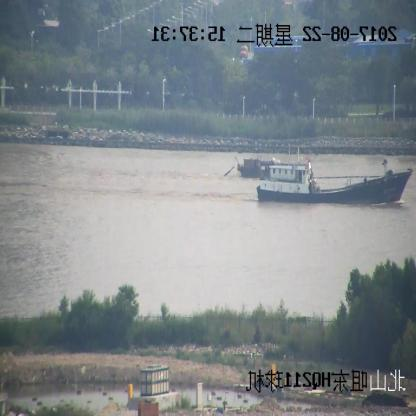Fishing Boat: (256, 158, 414, 206), (222, 154, 296, 180)
